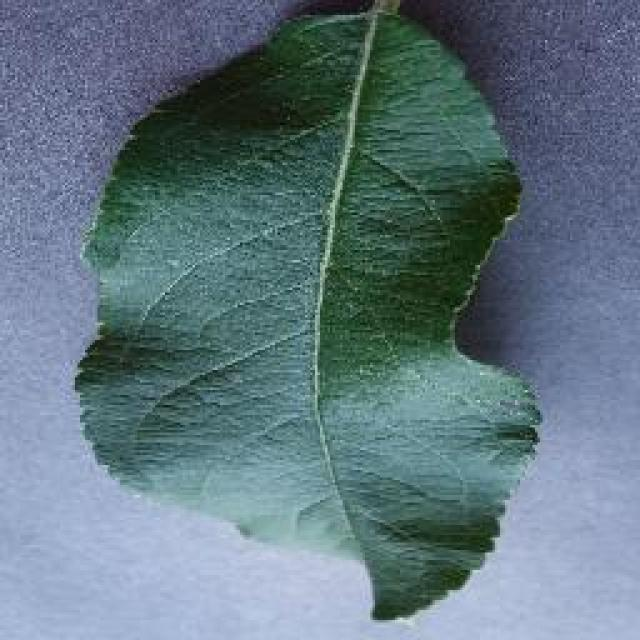apple scab disease: (73, 0, 545, 620)
